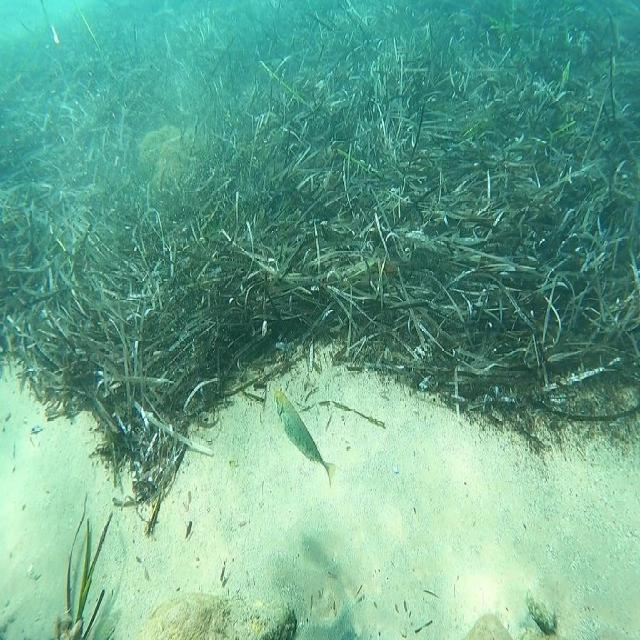Sokar Baligi: (270, 372, 346, 495)
